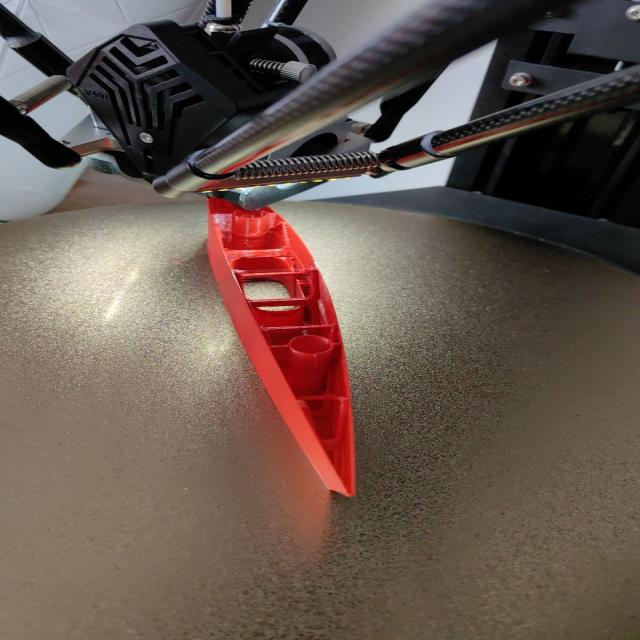Without deffect: (153, 170, 404, 516)
